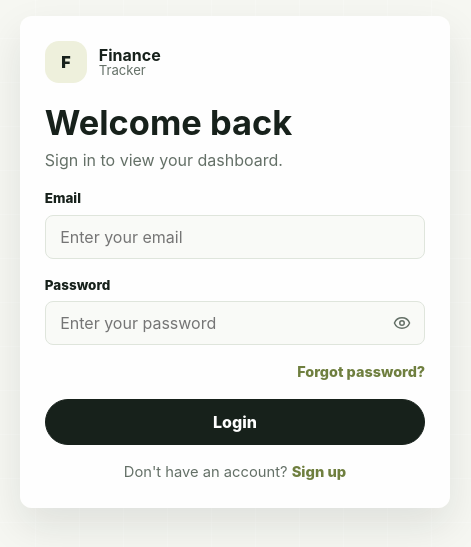
Test case: LoginForm › disables the submit button while submitting
Type "test@example.com" into the field with placeholder "Enter your email" at (235, 237), box [45,215,425,259]
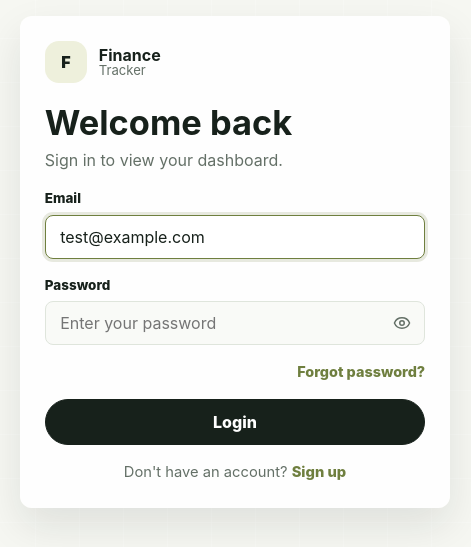
Type "wrongpassword" into the password field with placeholder "Enter your password" at (235, 323), box [45,301,425,345]
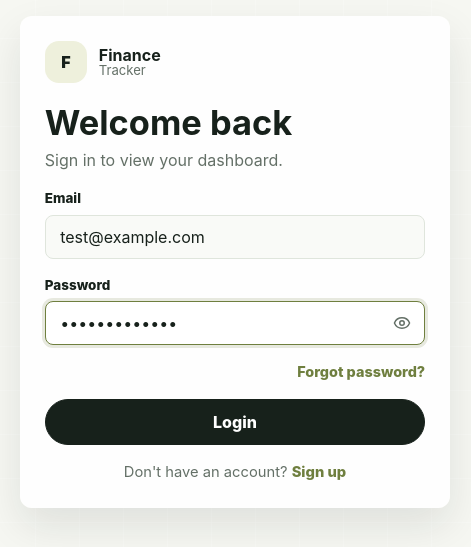
Click the button "Login" at (235, 422), box [45,399,425,445]
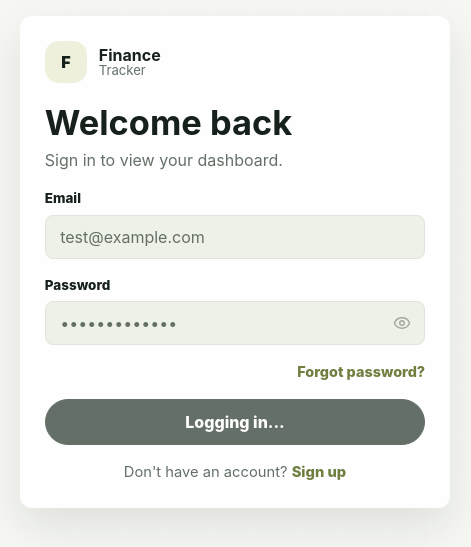
Now the button "Logging in..." is shown, box [45,399,425,445]
